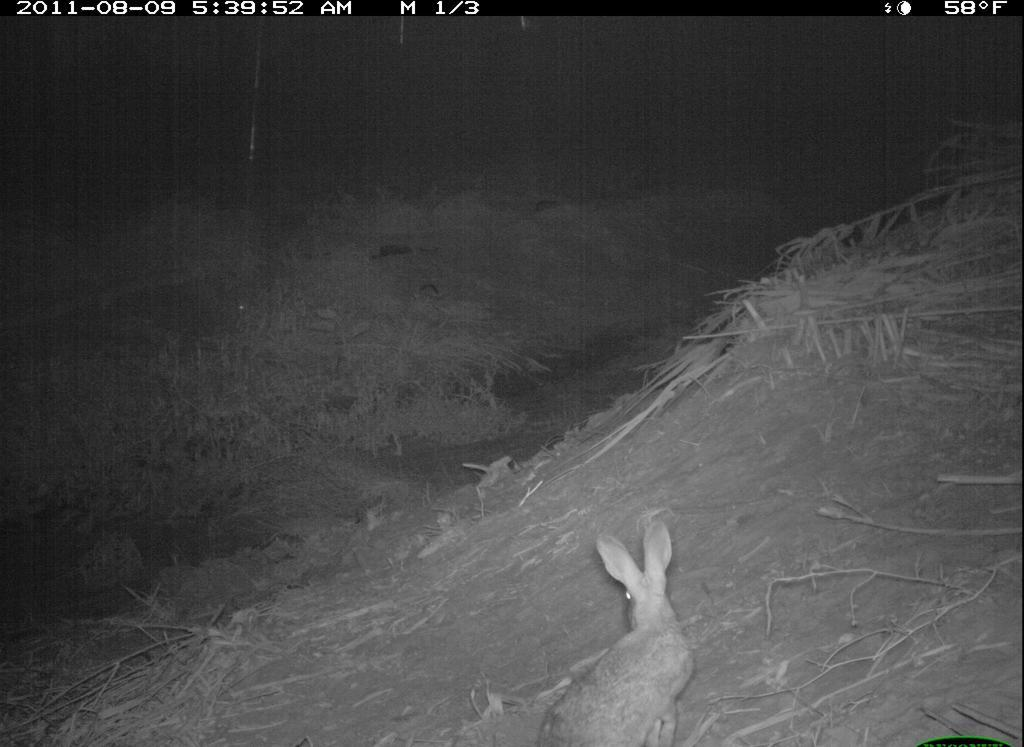rabbit: (533, 519, 703, 747)
